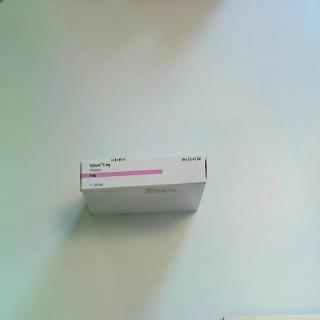valium5mg: (79, 152, 209, 218)
